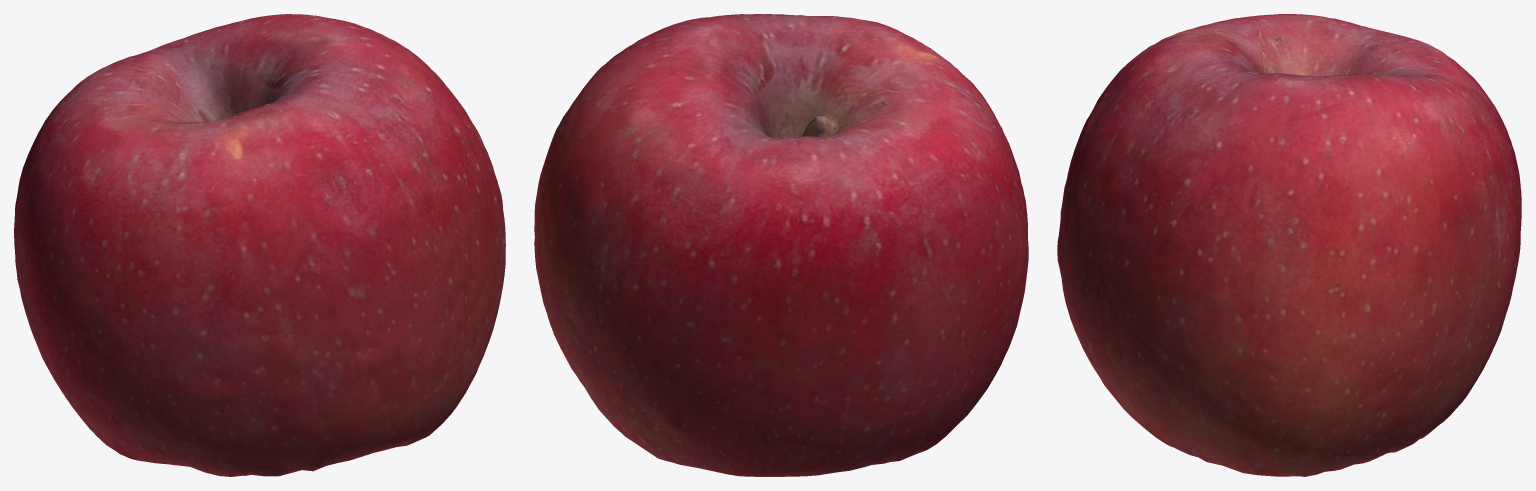
The model's file is apple.obj.
3 views of the same model, side by side, from view 1: azimuth 30°, elevation 25°; view 2: azimuth 150°, elevation 25°; view 3: azimuth 270°, elevation 25° (orthographic). The views are drawn at different scales.
Visible parts, largest first — view 1: mesh_0; view 2: mesh_0; view 3: mesh_0.
Part boxes in pixels (x1,y1,x2,y2): mesh_0: (14, 14, 505, 476); mesh_0: (534, 14, 1028, 476); mesh_0: (1057, 14, 1521, 476).
Bounding box in the file's own units: 0.0817 × 0.0664 × 0.0767.
Materials: 1 (1 with a texture image).
